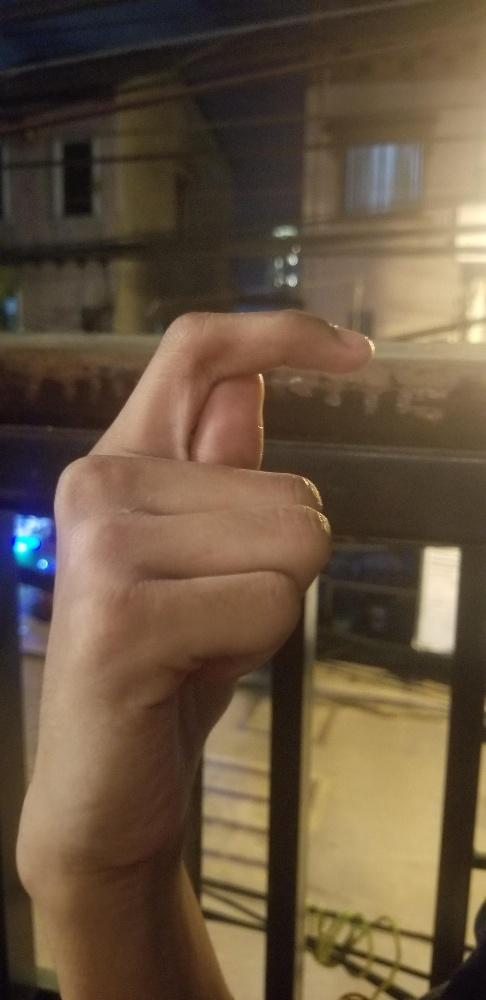t: (41, 308, 377, 873)
